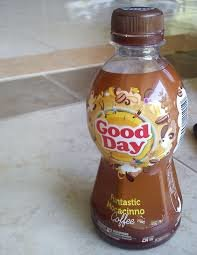botol: (86, 6, 187, 248), (86, 6, 181, 248)
